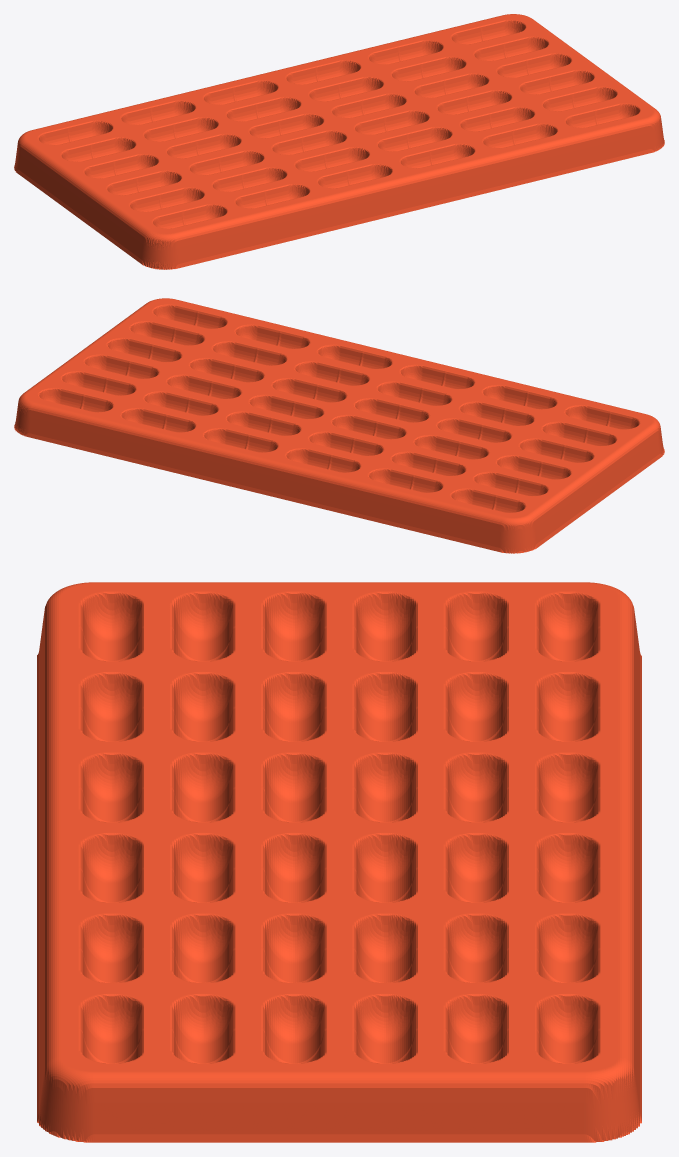
The model's file is mold.glb.
3 renders of one model, top to bottom at view 1: azimuth 30°, elevation 25°; view 2: azimuth 150°, elevation 25°; view 3: azimuth 270°, elevation 25°, orthographic. The views are drawn at different scales.
Visible parts, largest first — view 1: geometry_0; view 2: geometry_0; view 3: geometry_0.
Part boxes in pixels (x1,y1,x2,y2): geometry_0: (14,14,664,269); geometry_0: (14,298,664,553); geometry_0: (37,582,641,1142).
Size of the model in its own units: 0.1916 by 0.0108 by 0.0966.
